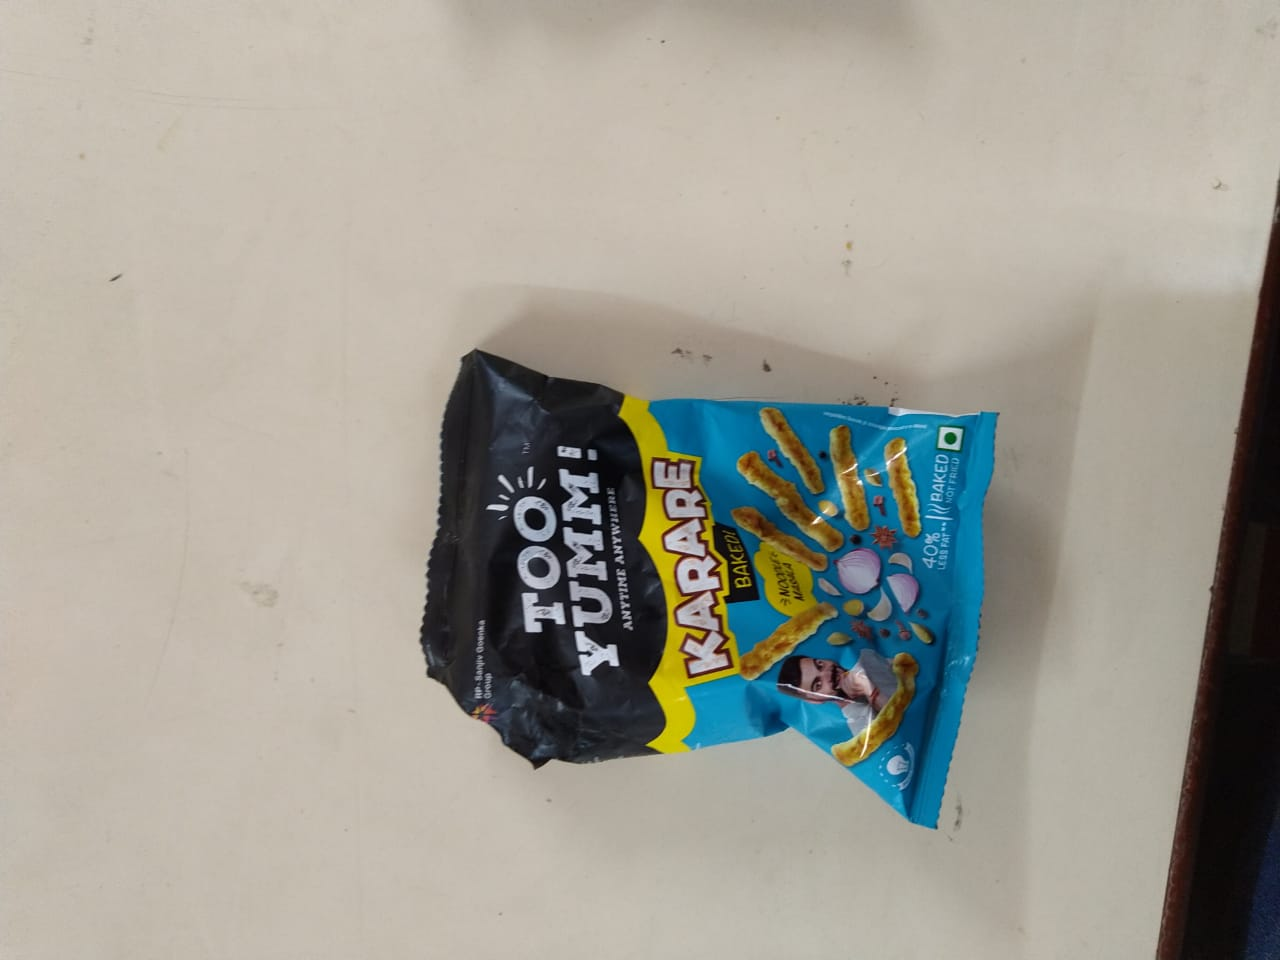tooyumm: (483, 407, 631, 705), (479, 441, 599, 681), (553, 425, 639, 685)
wrapper: (419, 345, 995, 827)
